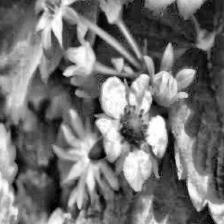Blossom Blight: (114, 104, 150, 150)
